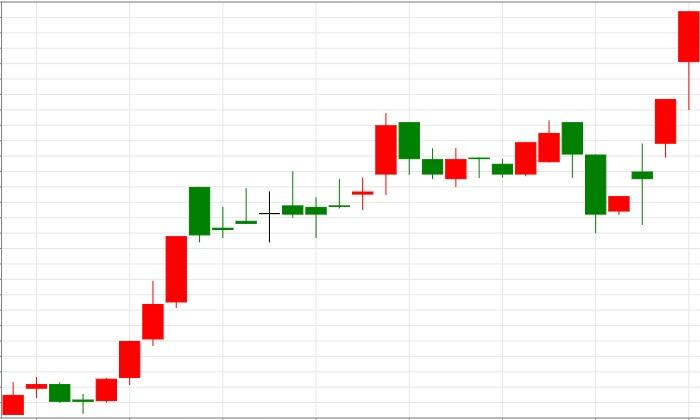three_white_soldiers_rise: (25, 279, 164, 413)
